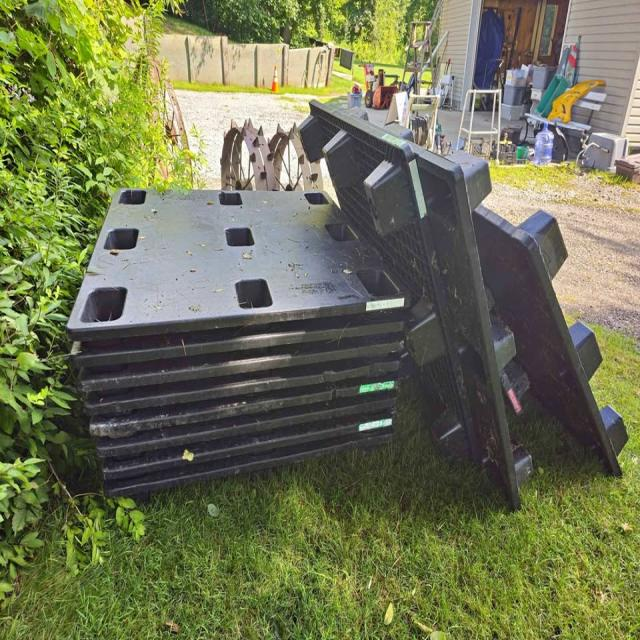non-igps: (296, 96, 538, 517), (64, 169, 415, 354), (470, 200, 632, 480), (91, 397, 413, 495), (97, 415, 410, 515), (91, 381, 404, 480), (73, 323, 410, 413), (80, 342, 404, 434), (64, 293, 412, 377), (83, 367, 404, 454)
